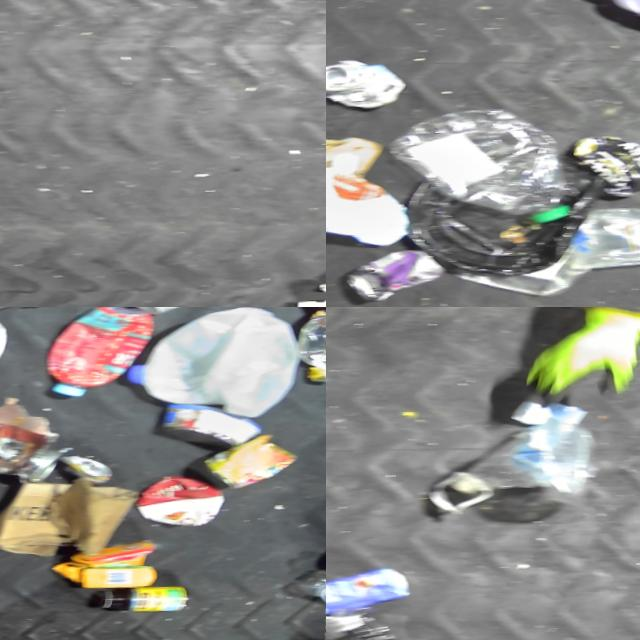can: (343, 243, 453, 307), (202, 426, 308, 489), (161, 395, 272, 450), (326, 53, 418, 110), (61, 450, 121, 485), (18, 446, 70, 483)
milk_jug: (124, 307, 310, 421), (304, 561, 326, 606)
plastic_bottle: (383, 97, 596, 234)
